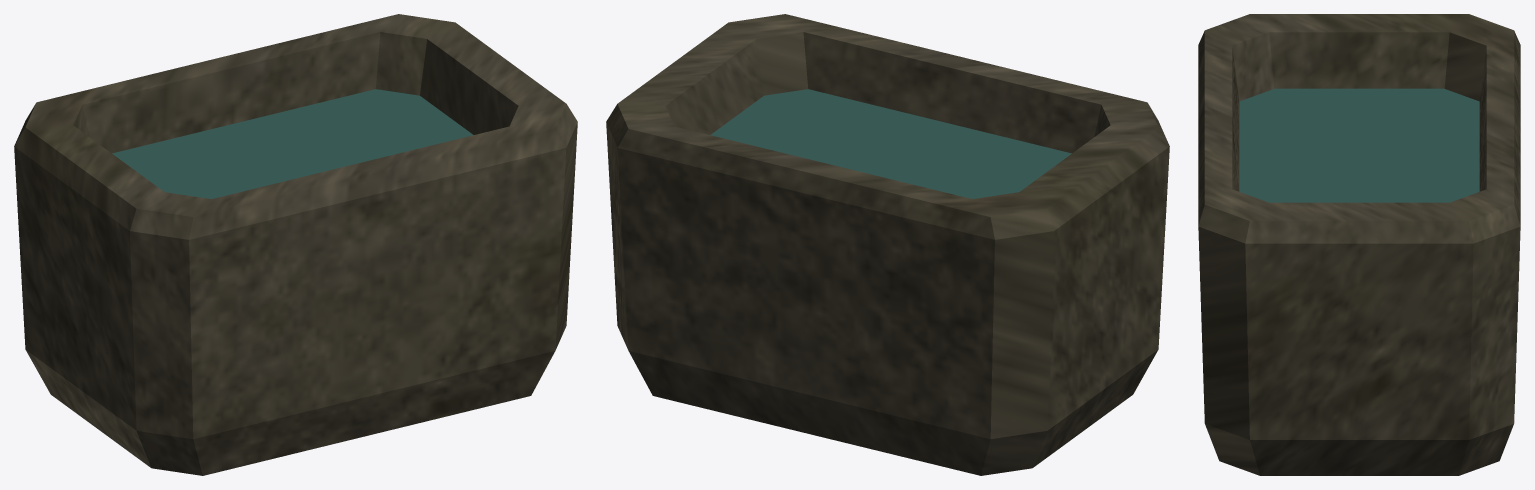
The model's file is bronzeQuenchTrough.glb.
The picture shows the model from 3 angles, left to right: view 1: azimuth 30°, elevation 25°; view 2: azimuth 150°, elevation 25°; view 3: azimuth 270°, elevation 25°; orthographic projection.
Visible parts, largest first — view 1: part_0, part_1; view 2: part_0, part_1; view 3: part_0, part_1.
Part boxes in pixels (x1,y1,x2,y2): part_0: (14,14,577,475); part_1: (112,89,473,198); part_0: (606,14,1169,475); part_1: (710,89,1071,198); part_0: (1198,14,1520,475); part_1: (1239,88,1479,202).
Size of the model in its own units: 0.76 by 0.435 by 0.48.
Materials: 2 (1 with a texture image).
